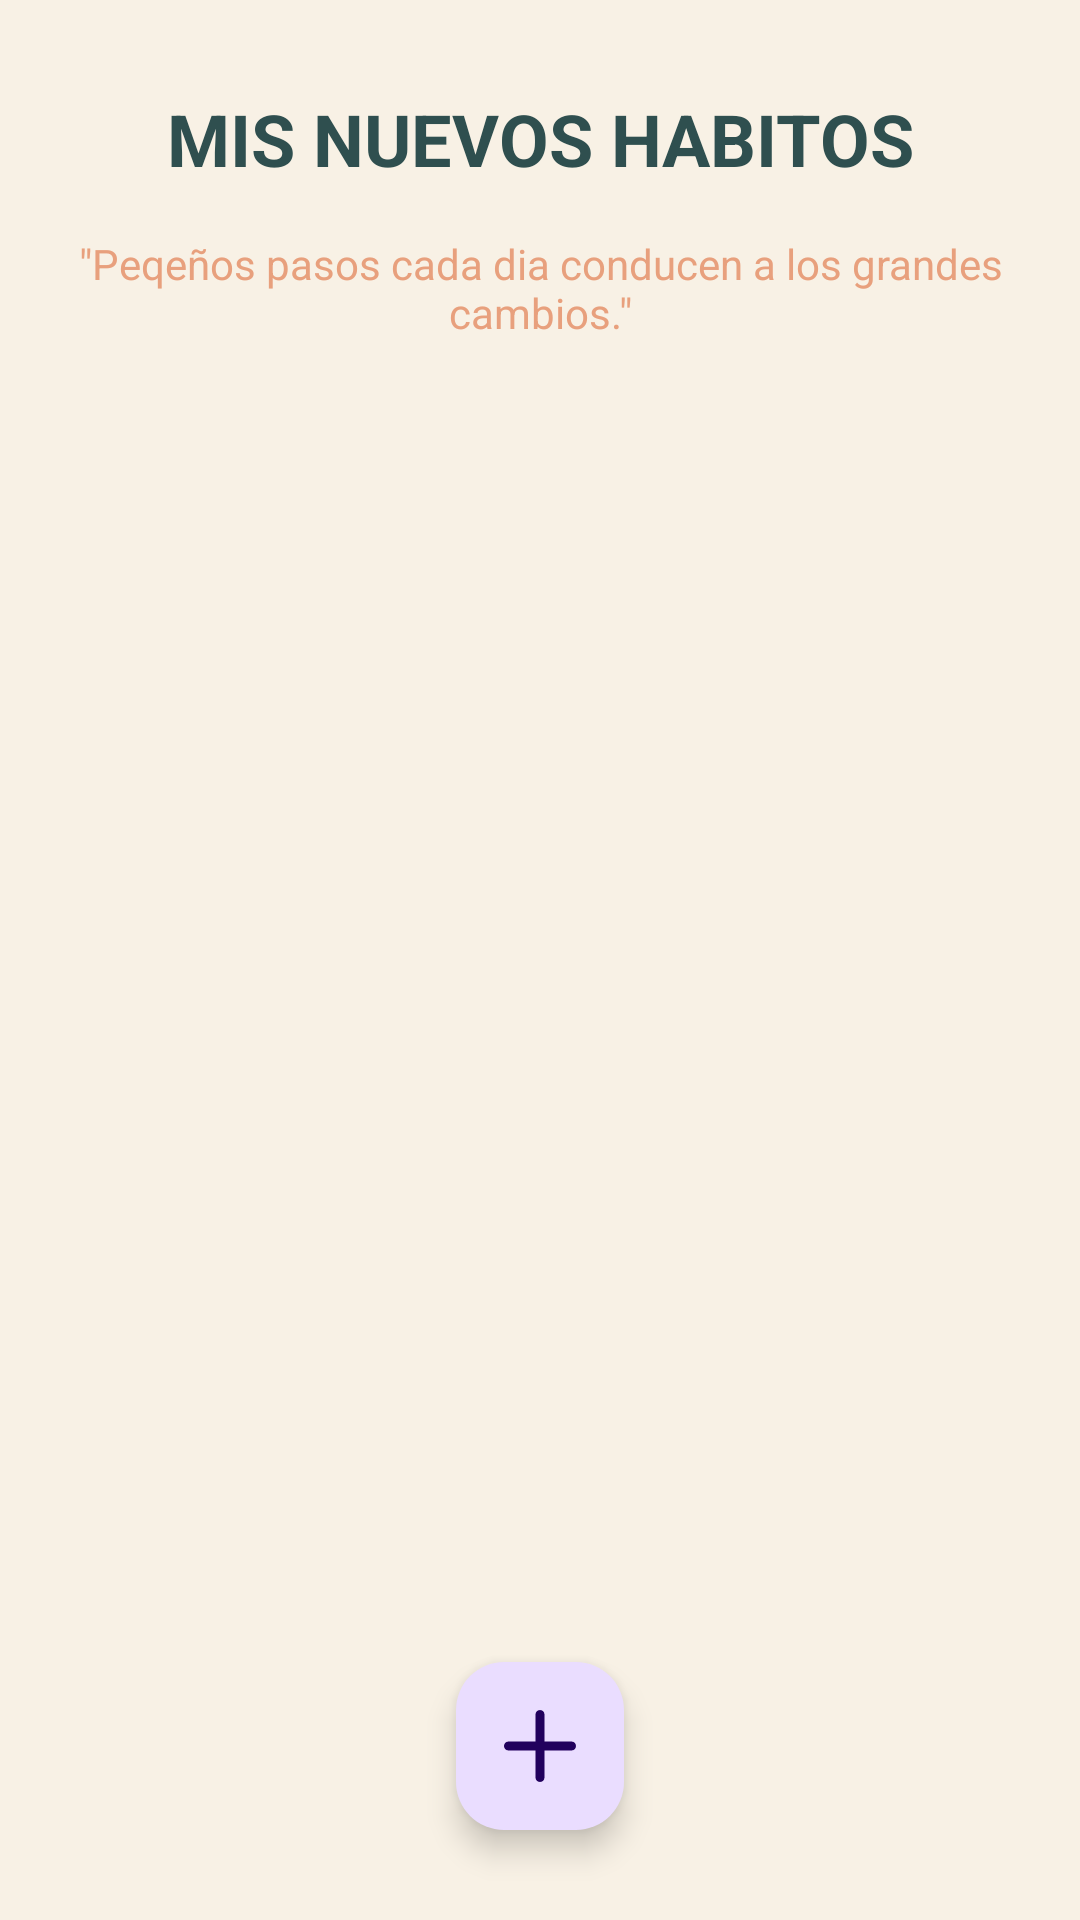

Where to tap for icons on this 1080 x 1920 app screen, as (x,y):
Boton para añadir los habitos en la lista: (540,1746)
